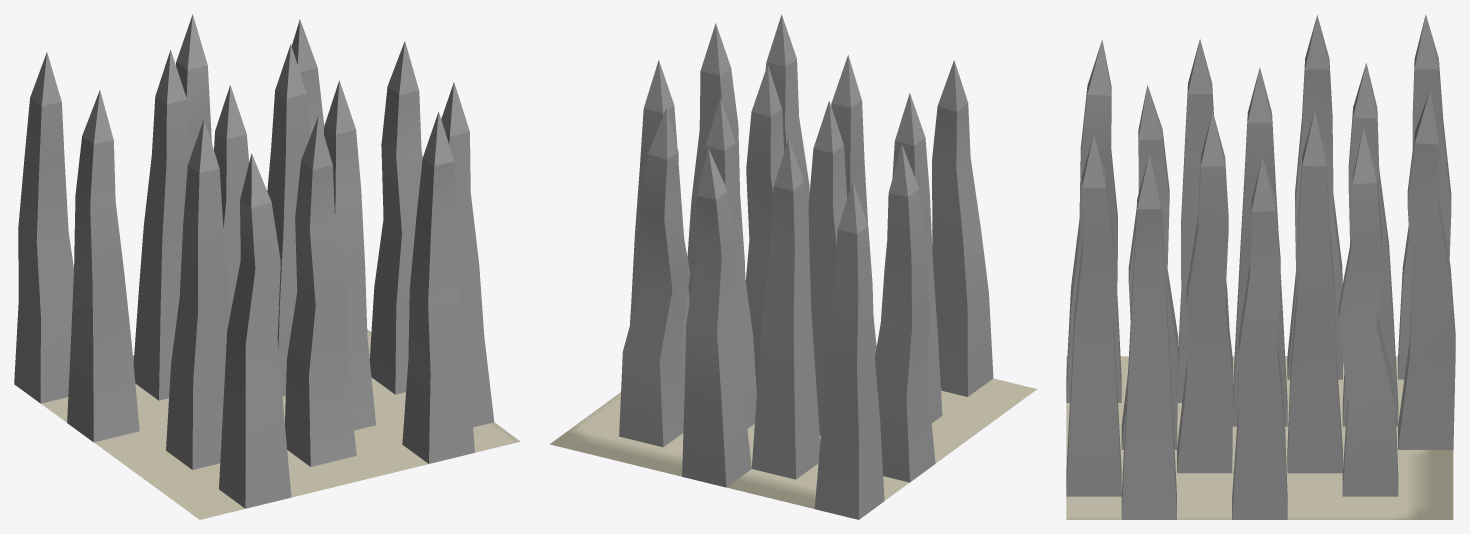
File: Spikes.fbx
3 renders of one model, left to right at view 1: azimuth 30°, elevation 25°; view 2: azimuth 150°, elevation 25°; view 3: azimuth 270°, elevation 25°, orthographic. The views are drawn at different scales.
Parts seen in each view (by area): view 1: Spike; view 2: Spike; view 3: Spike.
Part boxes in pixels (x1,y1,x2,y2): Spike: [14, 14, 520, 519]; Spike: [550, 14, 1036, 519]; Spike: [1066, 14, 1455, 519].
Size of the model in its own units: 202 by 203 by 203.
